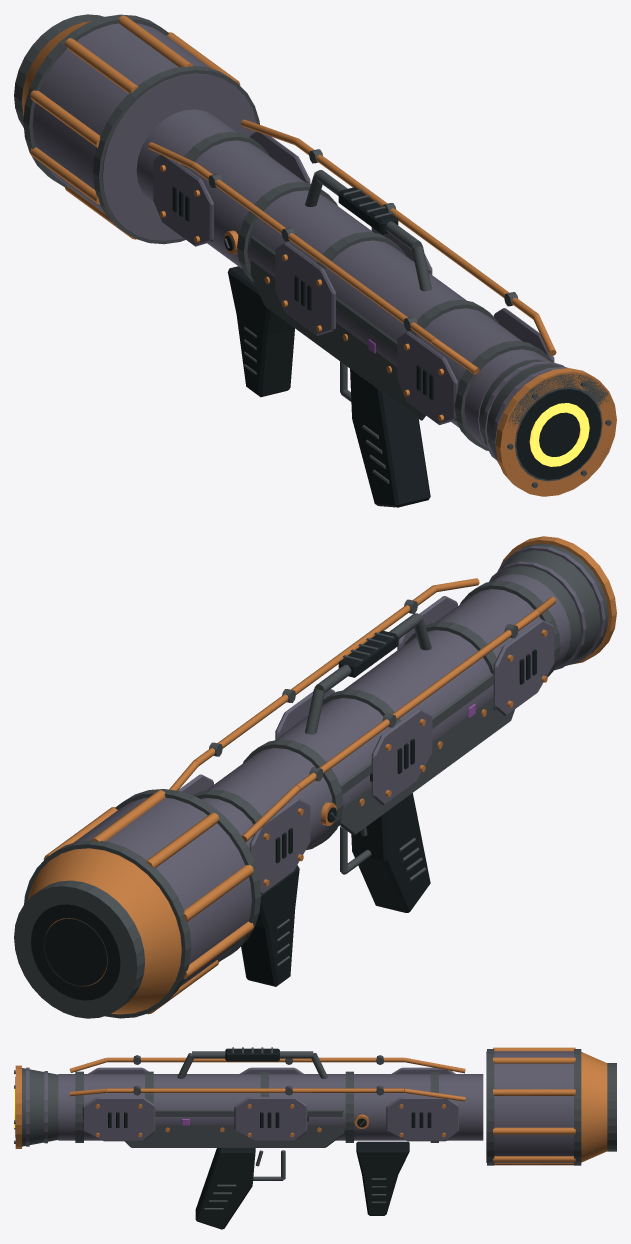
File: heavy_3.glb
3 views of the same model, one above another, from view 1: azimuth 30°, elevation 25°; view 2: azimuth 150°, elevation 25°; view 3: azimuth 270°, elevation 25° (orthographic). The views are drawn at different scales.
Parts seen in each view (by area): view 1: Weapon_heavy_v1; view 2: Weapon_heavy_v1; view 3: Weapon_heavy_v1.
Boxes of the visible parts, bbox=[...] form: Weapon_heavy_v1: bbox=[14, 14, 616, 507]; Weapon_heavy_v1: bbox=[14, 536, 616, 1018]; Weapon_heavy_v1: bbox=[14, 1047, 616, 1229].
Size of the model in its own units: 0.195 by 0.318 by 0.993.
